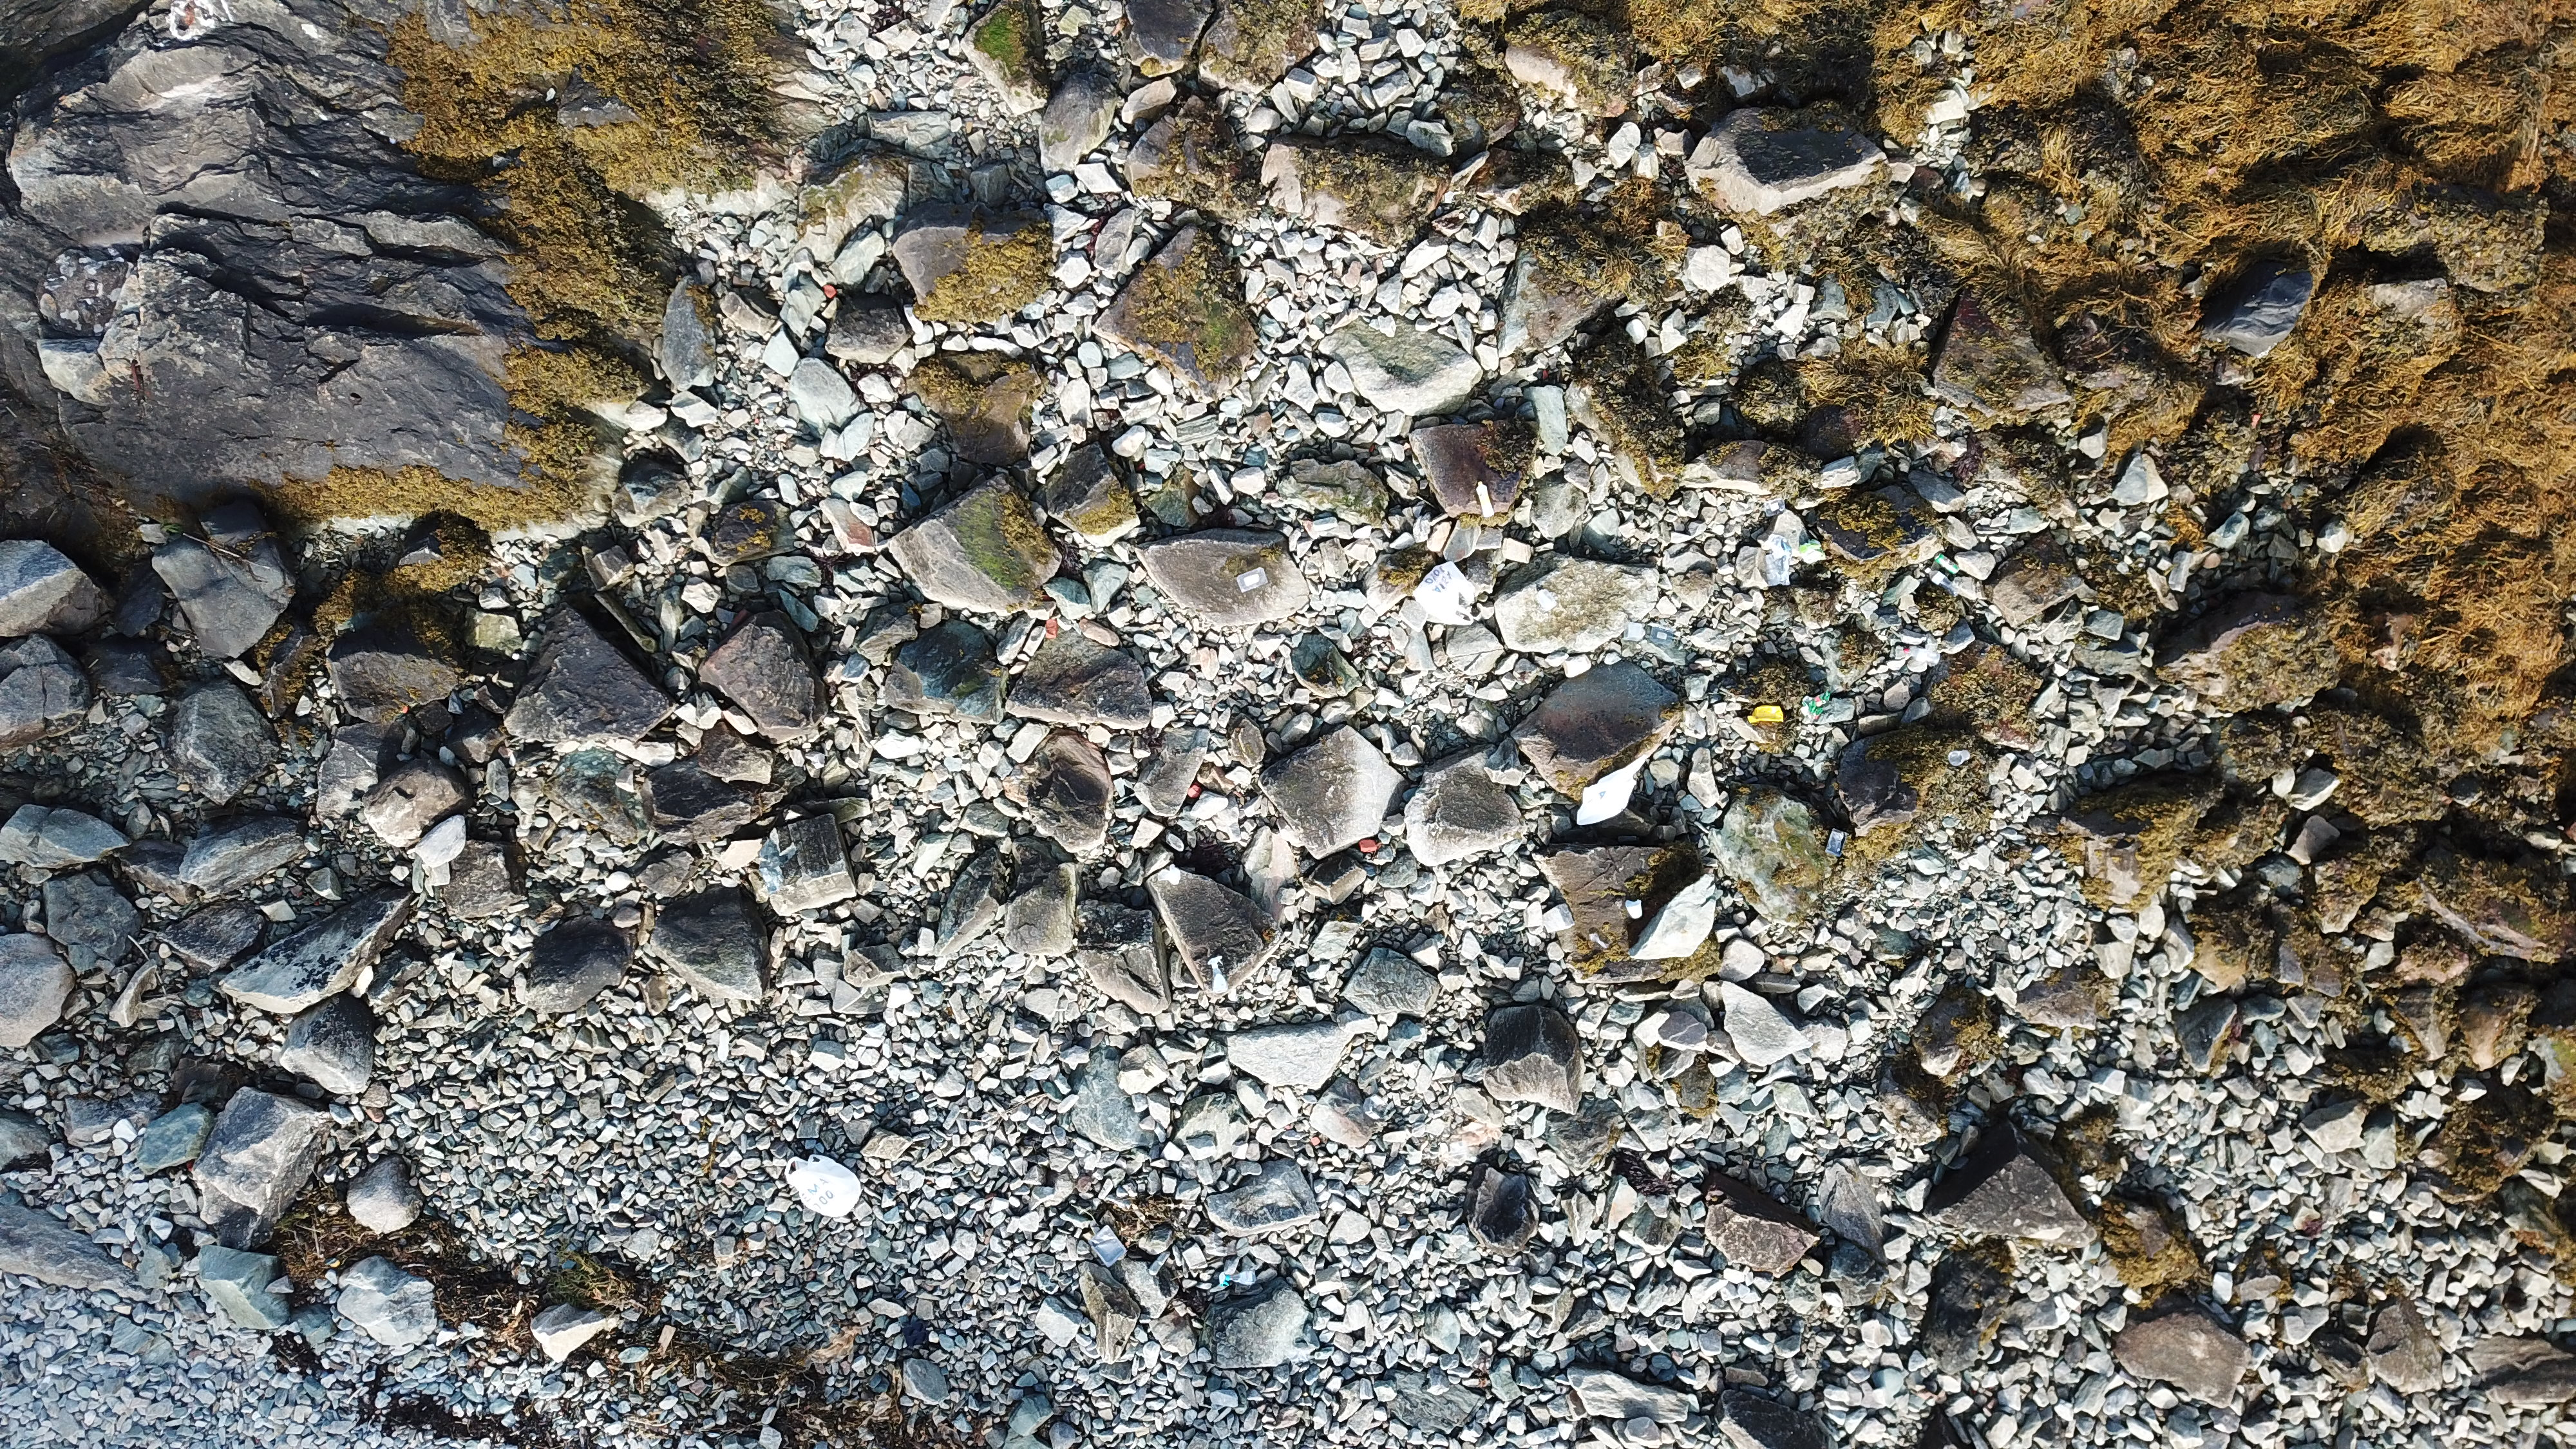Can: (1932, 554, 1960, 575)
Plastic: (1576, 754, 1645, 826), (786, 1154, 862, 1217), (1410, 561, 1477, 628), (1088, 1224, 1127, 1267), (1237, 566, 1267, 594), (1207, 954, 1226, 996), (1801, 692, 1829, 720), (1748, 706, 1785, 725), (1219, 1269, 1256, 1288), (1477, 481, 1495, 520), (1798, 540, 1824, 564), (1536, 589, 1560, 614), (1649, 626, 1675, 648), (1826, 828, 1845, 856), (1764, 554, 1780, 586), (1624, 899, 1644, 920), (1948, 750, 1971, 768), (1764, 499, 1785, 517), (1589, 932, 1608, 950)
PlasticBottle: (1759, 534, 1794, 586), (1925, 568, 1959, 596), (1904, 646, 1941, 667)
